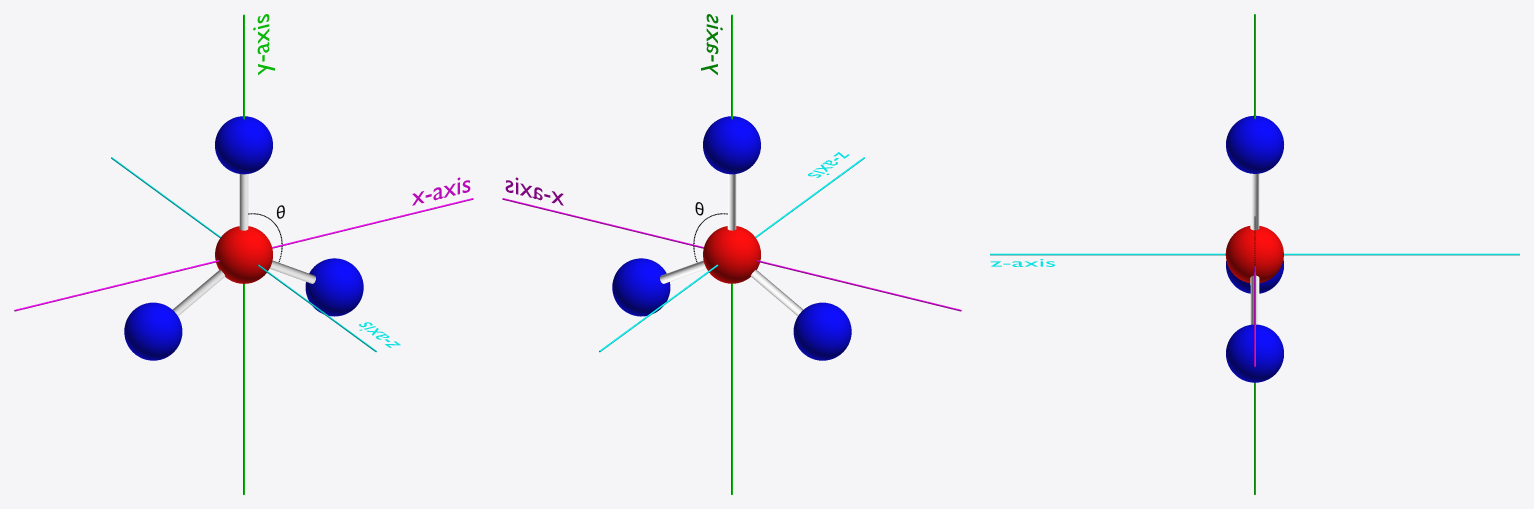
The model's file is trigonal_planar_coor.glb.
3 renders of one model, left to right at view 1: azimuth 30°, elevation 25°; view 2: azimuth 150°, elevation 25°; view 3: azimuth 270°, elevation 25°, orthographic.
Visible parts, largest first — view 1: trigonal_planar, Cylinder.005, Cylinder.006, Cylinder.004; view 2: trigonal_planar, Cylinder.005, Cylinder.006, Cylinder.004; view 3: trigonal_planar, Cylinder.006.
Part boxes in pixels (box(x1,y1,x2,y2)): trigonal_planar: box(124, 116, 363, 360); Cylinder.005: box(14, 198, 473, 311); Cylinder.006: box(111, 157, 376, 352); Cylinder.004: box(243, 14, 244, 494); trigonal_planar: box(612, 116, 851, 360); Cylinder.005: box(502, 198, 961, 311); Cylinder.006: box(599, 157, 864, 352); Cylinder.004: box(731, 14, 732, 494); trigonal_planar: box(1225, 115, 1283, 382); Cylinder.006: box(990, 253, 1519, 255).
Size of the model in its own units: 6 by 6 by 6.
Materials: 14 (1 with a texture image).
